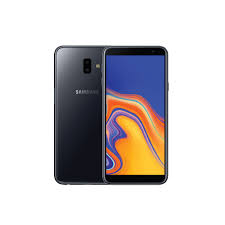samsung: (52, 43, 168, 186)
